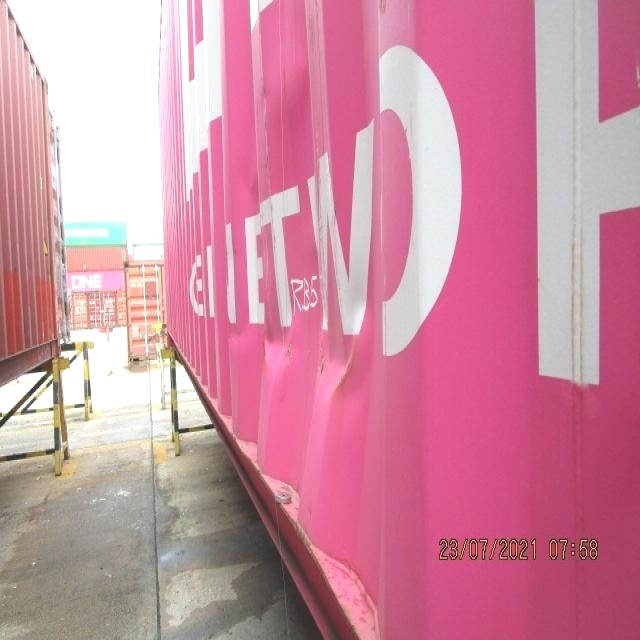Dent: (229, 188, 387, 426)
